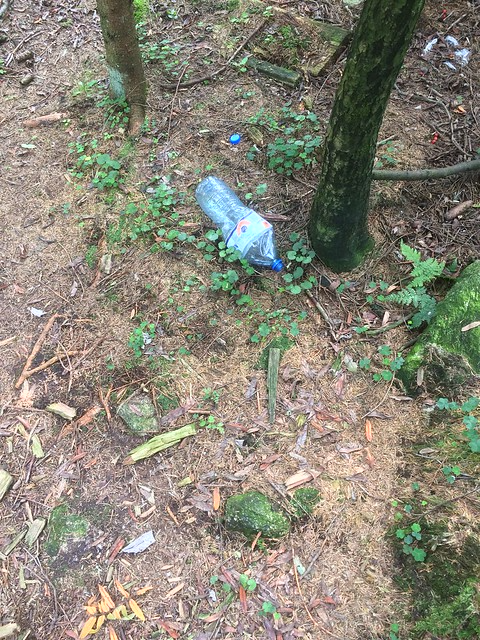bottle: (193, 164, 288, 281)
